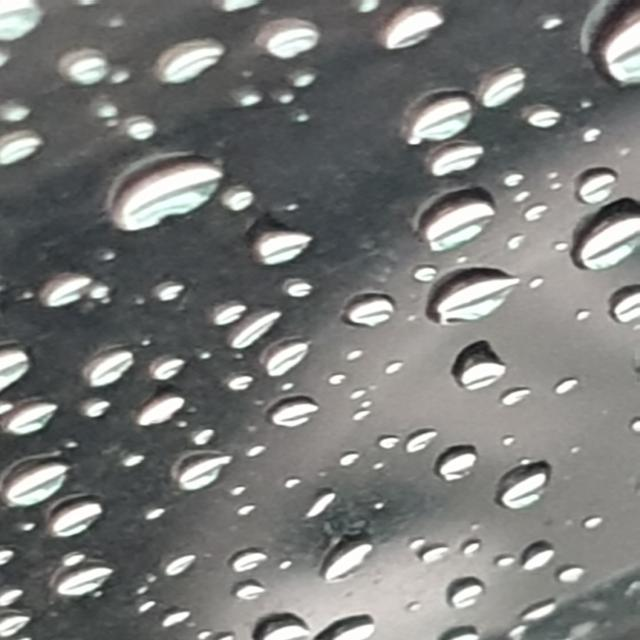raindrop: (90, 151, 236, 236), (424, 261, 536, 327), (583, 0, 640, 100), (156, 29, 244, 93), (242, 214, 326, 278), (418, 188, 494, 258), (392, 92, 482, 150), (569, 202, 640, 271), (227, 301, 310, 356), (252, 7, 340, 58), (371, 0, 447, 59), (0, 446, 77, 504), (422, 140, 510, 190), (23, 265, 114, 310), (458, 62, 530, 116), (36, 493, 120, 539), (172, 448, 246, 500), (0, 390, 71, 443), (333, 284, 417, 328), (52, 549, 111, 611), (215, 609, 321, 640), (454, 336, 512, 392), (502, 458, 562, 512), (432, 436, 502, 482), (262, 390, 334, 434), (0, 338, 53, 394), (309, 475, 372, 522), (299, 609, 391, 640), (264, 332, 322, 379), (130, 384, 194, 426), (325, 532, 375, 582), (83, 342, 131, 390), (565, 167, 622, 207), (217, 536, 280, 572), (491, 546, 545, 587), (206, 574, 270, 608), (0, 129, 48, 173), (378, 256, 444, 287), (402, 421, 457, 457), (62, 42, 105, 88), (200, 183, 254, 217), (434, 576, 482, 614), (0, 0, 38, 45), (210, 296, 257, 332), (156, 271, 198, 310), (522, 108, 570, 142), (607, 278, 640, 322), (504, 202, 563, 226), (554, 505, 610, 530), (156, 604, 202, 634), (552, 558, 600, 586), (421, 620, 488, 640), (39, 541, 85, 570), (148, 357, 192, 386), (368, 358, 410, 388), (180, 420, 222, 450), (564, 122, 616, 146), (168, 544, 200, 582), (206, 0, 275, 17), (324, 360, 354, 399), (75, 393, 107, 428), (549, 374, 589, 402), (0, 100, 40, 127), (128, 439, 158, 474), (333, 442, 370, 470), (128, 112, 162, 142), (0, 611, 34, 640), (213, 615, 252, 640), (0, 578, 27, 612), (422, 536, 451, 566), (494, 389, 537, 409), (329, 413, 374, 432), (328, 384, 371, 402), (378, 428, 410, 452), (522, 604, 568, 620), (218, 373, 256, 392), (340, 351, 370, 369), (0, 537, 18, 564)
